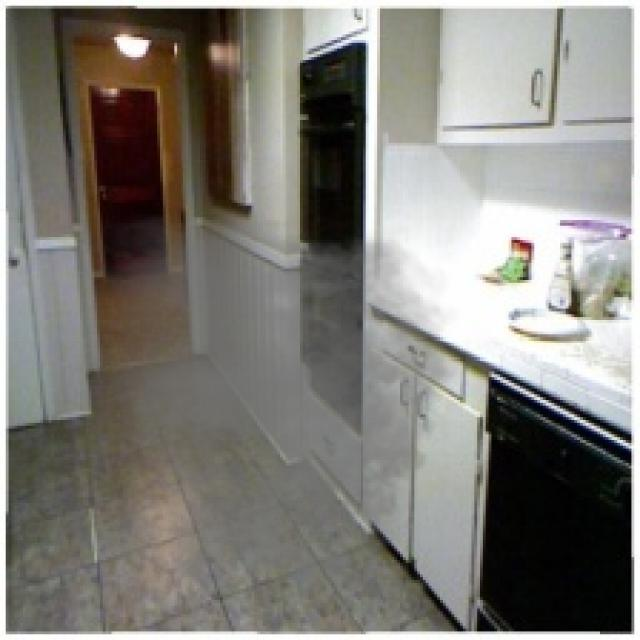smoke: (80, 214, 474, 603)
